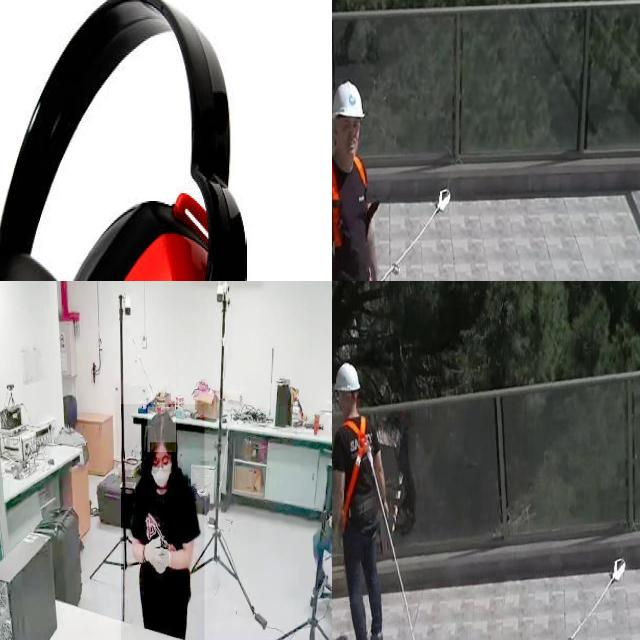Ear-protection: (0, 0, 254, 281)
Harness: (381, 189, 452, 281), (568, 559, 625, 640), (343, 416, 370, 524), (332, 163, 343, 256), (356, 157, 368, 188)
face_mask: (121, 404, 205, 640), (150, 442, 177, 490)
hand_glove: (142, 527, 170, 583)
head_nohelmet: (148, 407, 176, 452)
person: (317, 420, 332, 589)
